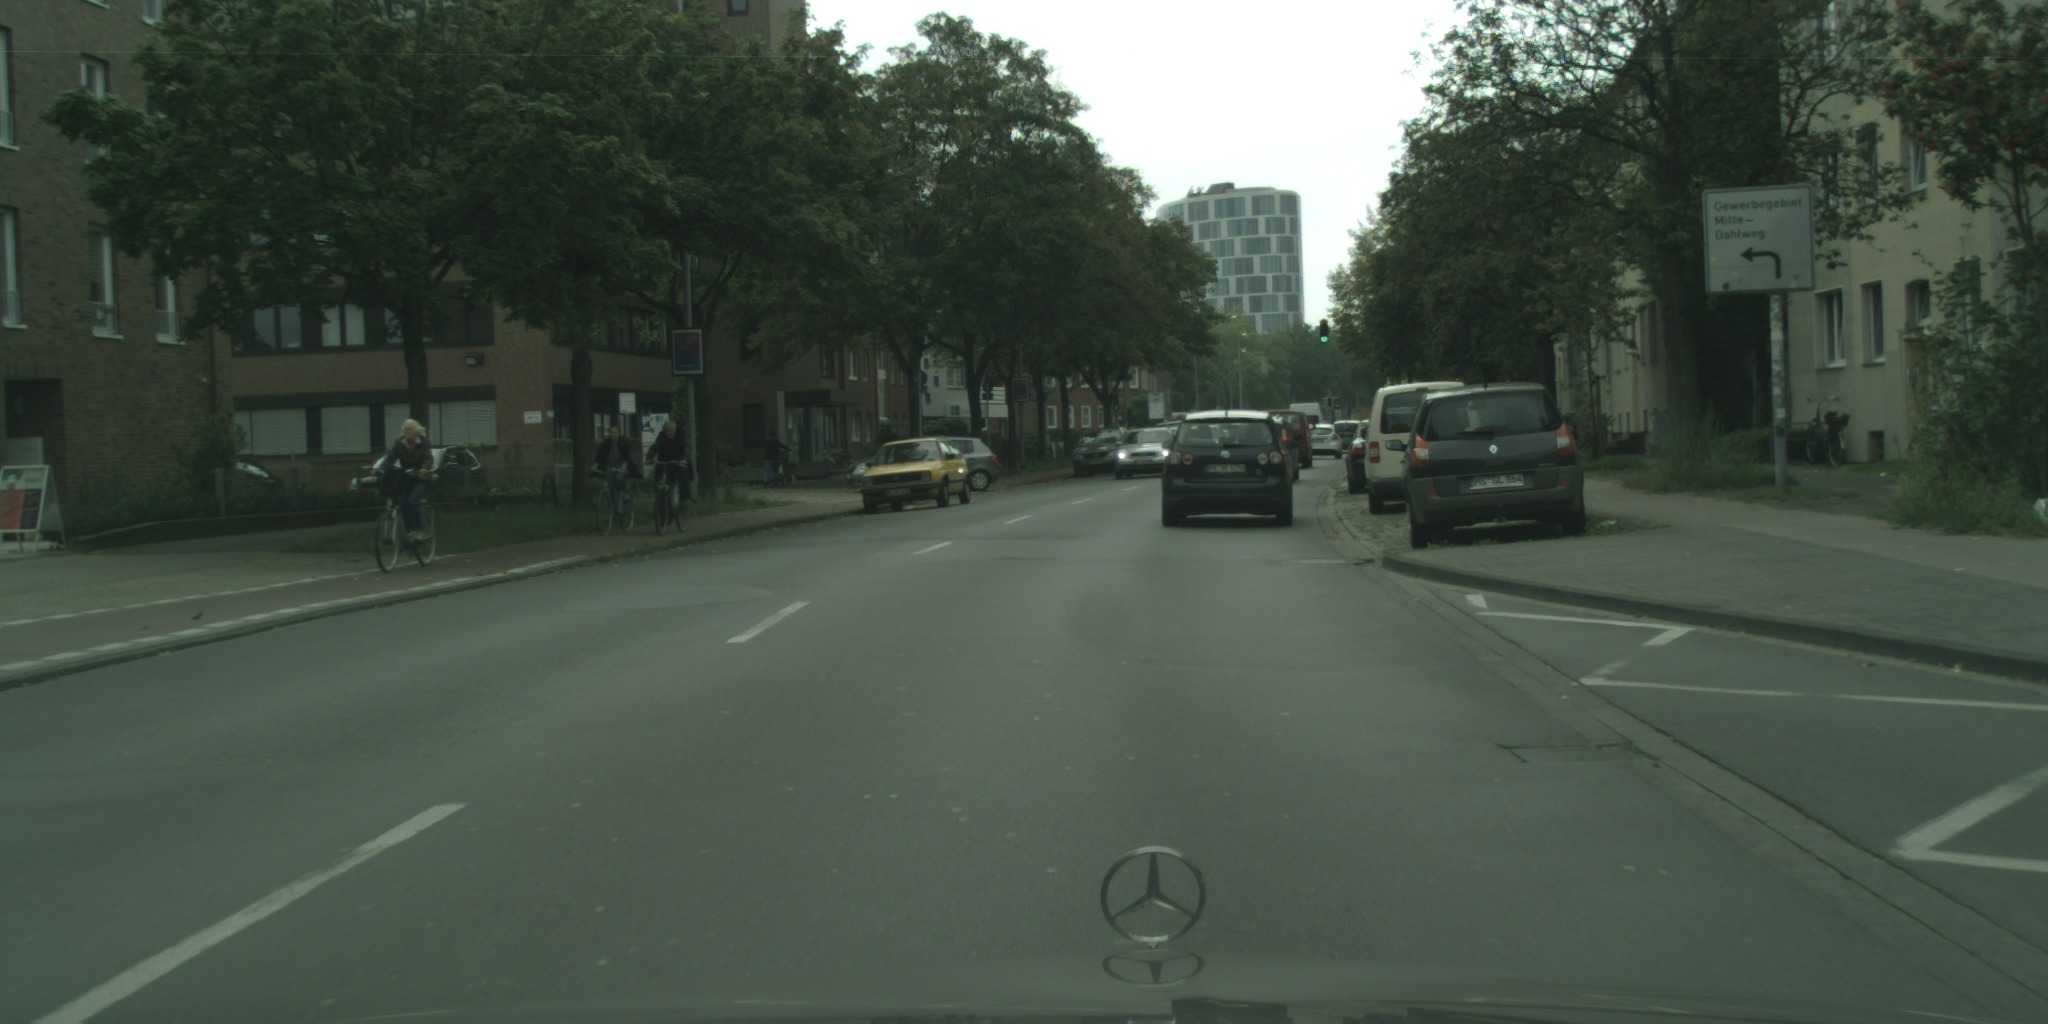bicycle: (375, 467, 439, 573), (1804, 396, 1850, 467), (593, 468, 639, 537), (650, 460, 691, 537), (778, 446, 798, 486)
car: (1386, 382, 1586, 550), (1161, 408, 1300, 527), (1360, 381, 1472, 515), (847, 435, 1000, 495), (861, 437, 971, 514), (1338, 417, 1386, 495), (1255, 410, 1316, 469), (1114, 426, 1176, 480), (1258, 414, 1305, 483), (1073, 427, 1132, 478), (230, 454, 288, 506), (1301, 422, 1346, 459), (1286, 402, 1324, 433), (1332, 420, 1363, 450), (1155, 420, 1197, 443)
person: (764, 429, 793, 489)
rider: (370, 419, 434, 547), (588, 425, 643, 524), (644, 419, 694, 526)
